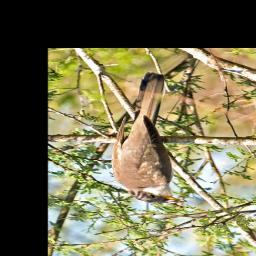Cuckoo: (111, 73, 187, 204)
